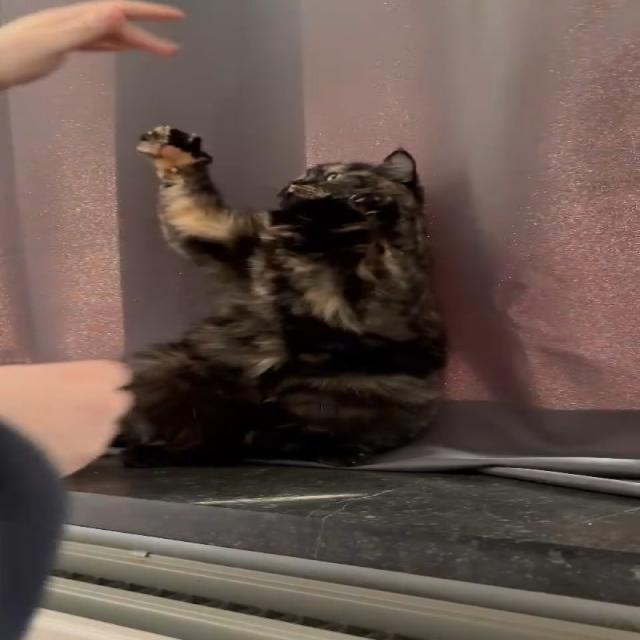authorized: (112, 124, 449, 468)
